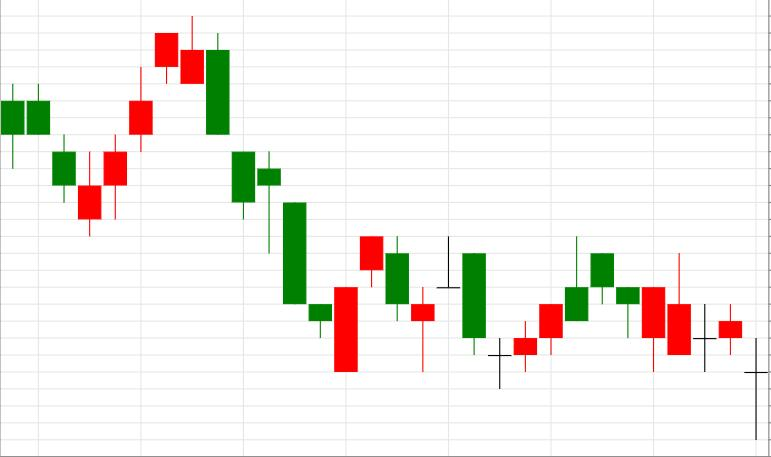bullish_engulfing_rise: (206, 34, 358, 372)
shooting_star_fall: (488, 237, 588, 389)
three_white_soldiers_rise: (1, 66, 153, 238)
